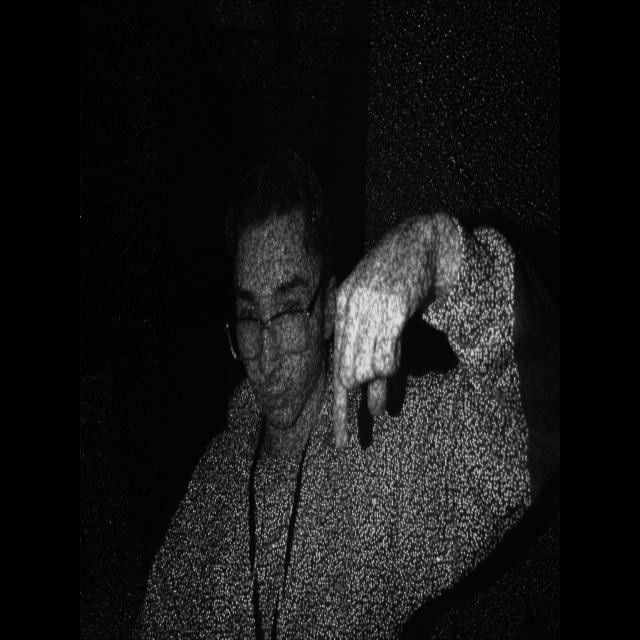Q: (318, 263, 438, 444)
